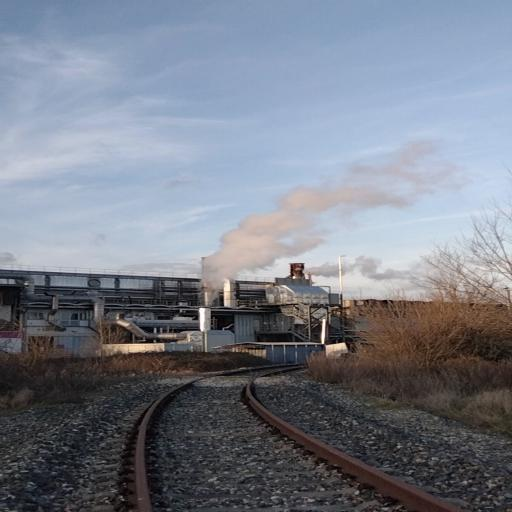leakage: (187, 141, 492, 302), (283, 250, 447, 292)
